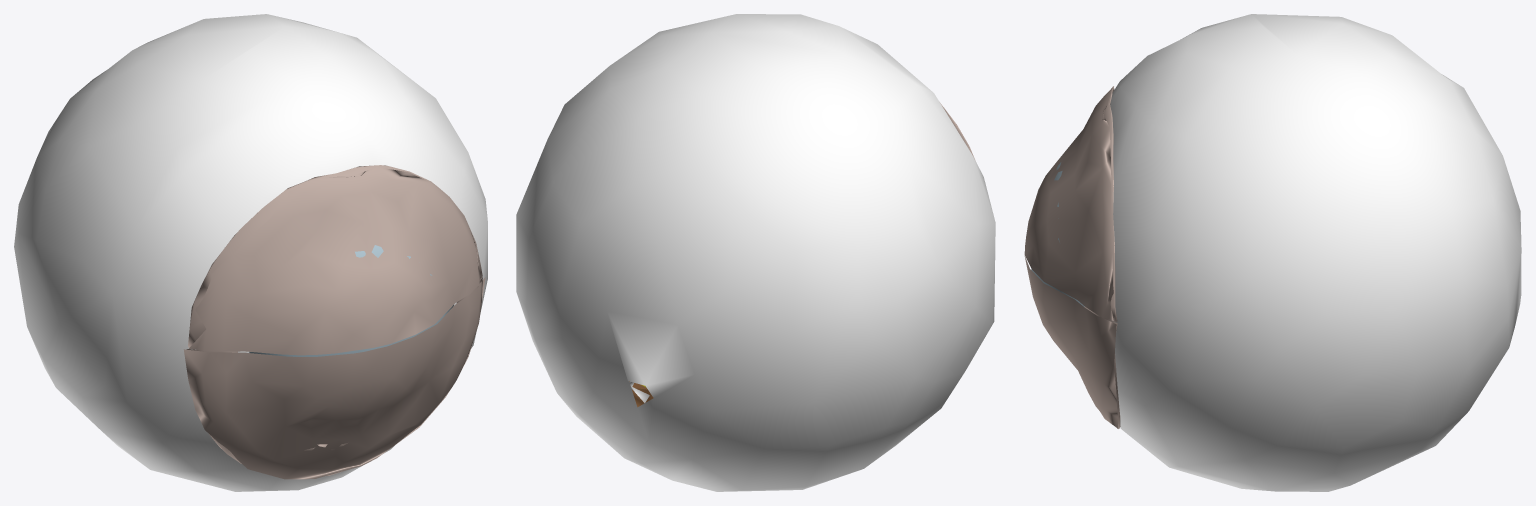
Rendered from eye_l.glb.
3 views of the same model, side by side, from view 1: azimuth 30°, elevation 25°; view 2: azimuth 150°, elevation 25°; view 3: azimuth 270°, elevation 25° (orthographic).
Parts seen in each view (by area): view 1: VH_F_sclera_L, VH_F_palpebral_conjunctiva_of_left_upper_eyelid, VH_F_palpebral_conjunctiva_of_left_lower_eyelid, VH_F_bulbar_conjunctiva_L, VH_F_cornea_L; view 2: VH_F_sclera_L; view 3: VH_F_sclera_L, VH_F_palpebral_conjunctiva_of_left_upper_eyelid, VH_F_palpebral_conjunctiva_of_left_lower_eyelid, VH_F_bulbar_conjunctiva_L.
Boxes of the visible parts, bbox=[...] form: VH_F_sclera_L: bbox=[14, 14, 487, 491]; VH_F_palpebral_conjunctiva_of_left_upper_eyelid: bbox=[189, 167, 481, 355]; VH_F_palpebral_conjunctiva_of_left_lower_eyelid: bbox=[183, 277, 485, 479]; VH_F_bulbar_conjunctiva_L: bbox=[186, 165, 482, 475]; VH_F_cornea_L: bbox=[249, 245, 453, 356]; VH_F_sclera_L: bbox=[516, 14, 995, 491]; VH_F_sclera_L: bbox=[1110, 14, 1521, 491]; VH_F_palpebral_conjunctiva_of_left_upper_eyelid: bbox=[1024, 89, 1116, 322]; VH_F_palpebral_conjunctiva_of_left_lower_eyelid: bbox=[1024, 256, 1118, 428]; VH_F_bulbar_conjunctiva_L: bbox=[1084, 86, 1120, 428].
Size of the model in its own units: 0.0244 by 0.0243 by 0.0252.
